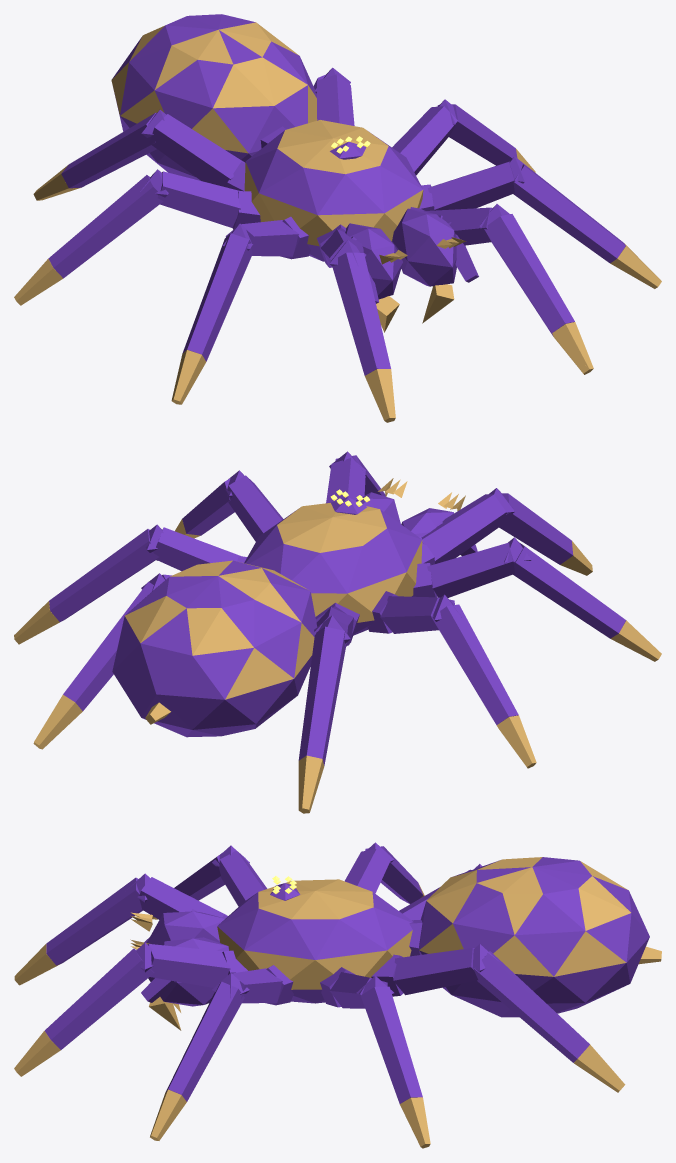
The model's file is trapdoor.glb.
3 renders of one model, top to bottom at view 1: azimuth 30°, elevation 25°; view 2: azimuth 150°, elevation 25°; view 3: azimuth 270°, elevation 25°, orthographic. The views are drawn at different scales.
Visible parts, largest first — view 1: abdomen, body, fangs, leg_L1_lower, leg_R1_lower, leg_R3_lower, leg_R2_lower, leg_L2_lower, leg_R4_upper, leg_R4_lower, leg_R3_upper, leg_L2_upper (+7 smaller); view 2: abdomen, body, leg_R4_lower, leg_R3_lower, leg_R2_lower, leg_L3_lower, leg_L4_lower, leg_R2_upper, leg_R1_upper, leg_R1_lower, leg_R3_upper, leg_L3_upper (+5 smaller); view 3: abdomen, body, leg_L4_lower, leg_L1_lower, leg_L2_lower, leg_L3_lower, fangs, leg_R1_lower, leg_L4_upper, leg_L1_upper, leg_L2_upper, leg_R1_upper (+6 smaller).
Boxes of the visible parts, x1,y1,x2,y2 form: abdomen: (111, 14, 317, 180); body: (244, 120, 423, 261); fangs: (345, 208, 465, 332); leg_L1_lower: (478, 204, 593, 374); leg_R1_lower: (329, 240, 395, 422); leg_R3_lower: (14, 169, 168, 305); leg_R2_lower: (171, 223, 252, 404); leg_L2_lower: (509, 156, 661, 288); leg_R4_upper: (149, 114, 245, 191); leg_R4_lower: (33, 110, 166, 200); leg_R3_upper: (157, 171, 260, 229); leg_L2_upper: (419, 161, 515, 210); abdomen: (112, 560, 317, 737); body: (244, 489, 422, 635); leg_R4_lower: (298, 615, 350, 813); leg_R3_lower: (431, 594, 536, 768); leg_R2_lower: (504, 537, 661, 661); leg_L3_lower: (14, 524, 163, 644); leg_L4_lower: (33, 573, 164, 749); leg_R2_upper: (412, 542, 514, 597); leg_R1_upper: (419, 494, 506, 564); leg_R1_lower: (488, 488, 592, 575); leg_R3_upper: (367, 591, 454, 633); leg_L3_upper: (153, 527, 247, 571); abdomen: (409, 857, 661, 1017); body: (217, 876, 413, 1003); leg_L4_lower: (472, 944, 625, 1092); leg_L1_lower: (14, 942, 153, 1076); leg_L2_lower: (150, 973, 249, 1140); leg_L3_lower: (356, 976, 430, 1148); fangs: (130, 911, 229, 1030); leg_R1_lower: (14, 873, 150, 985); leg_L4_upper: (371, 948, 477, 996); leg_L1_upper: (147, 944, 247, 987); leg_L2_upper: (217, 965, 293, 1005); leg_R1_upper: (139, 877, 227, 919).
Size of the model in its own units: 5 by 1.58 by 5.67.
